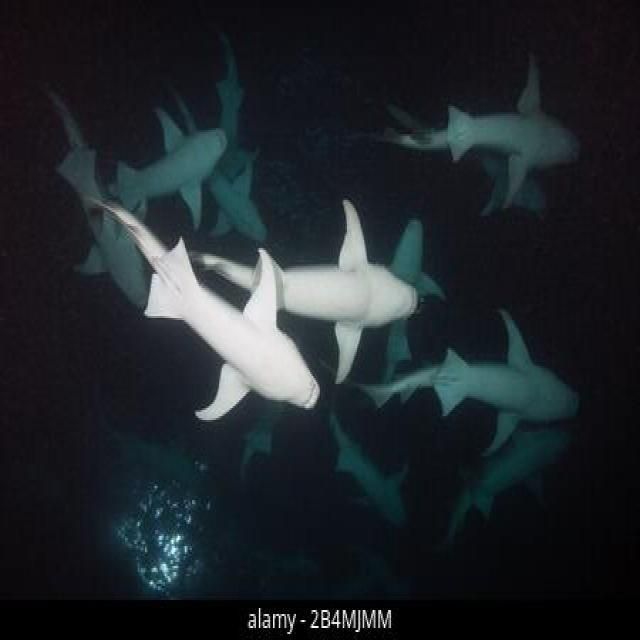Shark: (84, 170, 421, 474)
